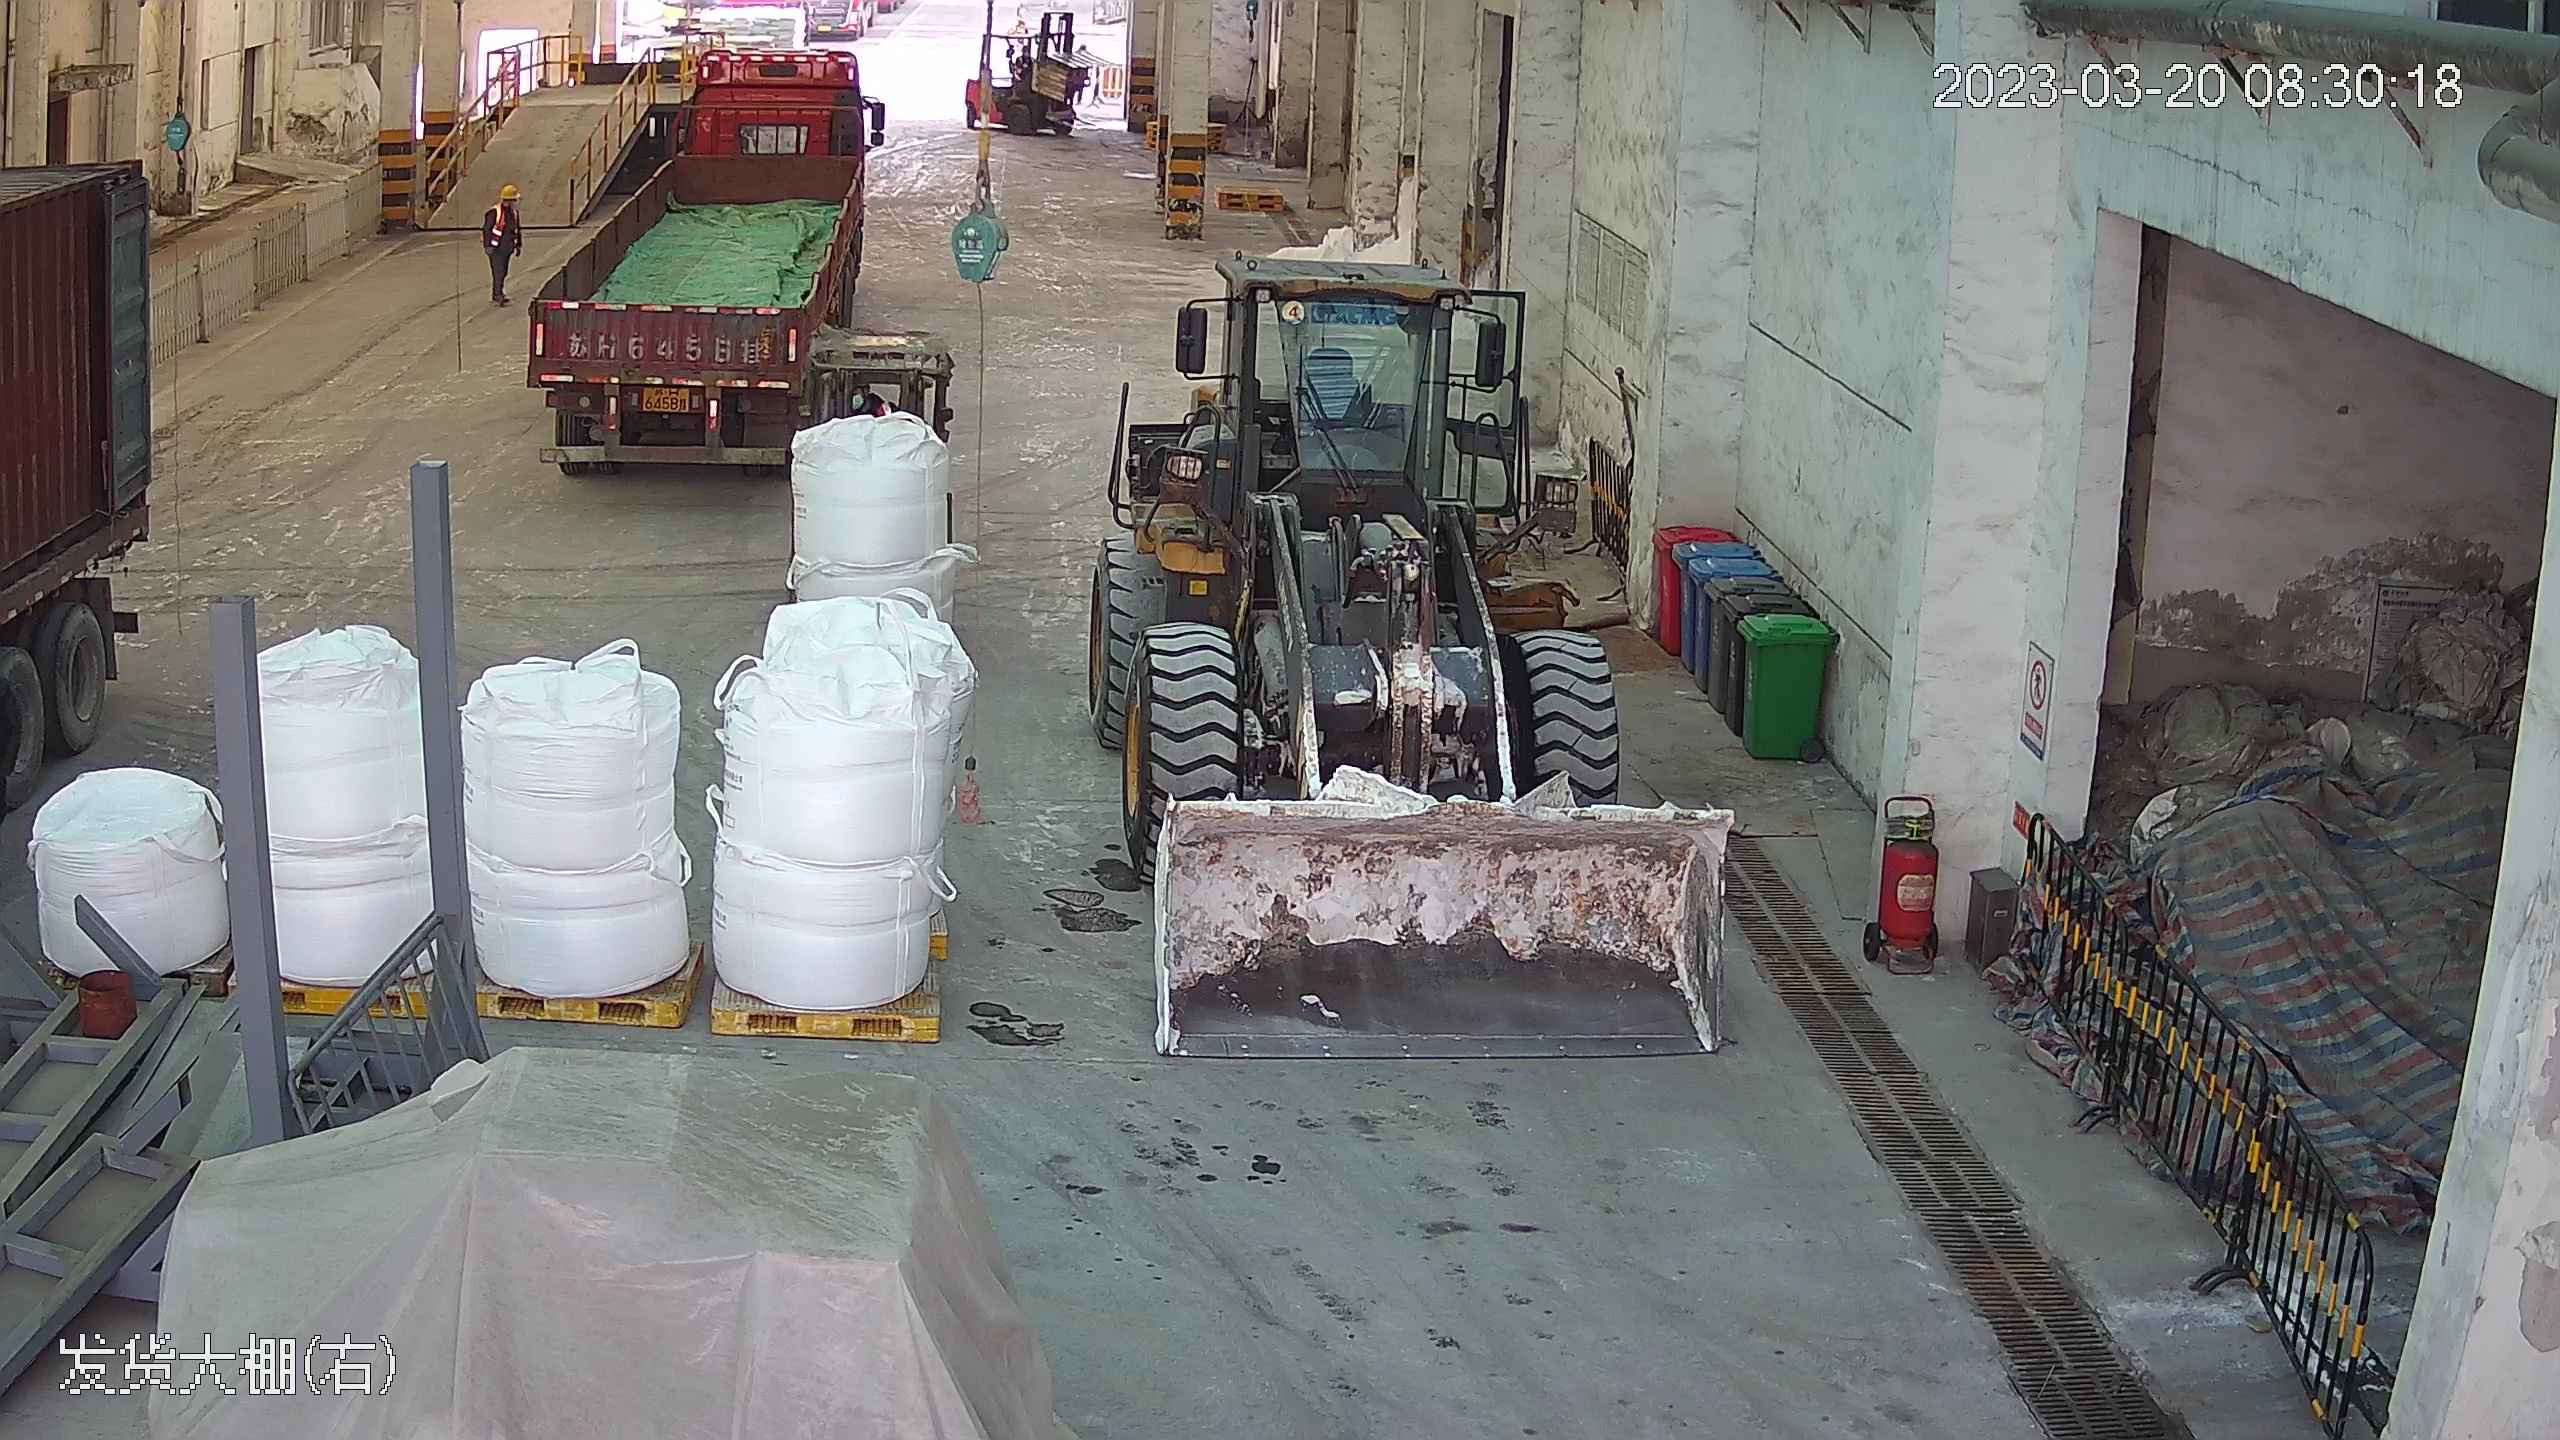head: (487, 181, 522, 223)
helmet: (498, 182, 517, 197)
people: (479, 178, 522, 307)
truck: (1, 22, 180, 988), (516, 23, 874, 476)
